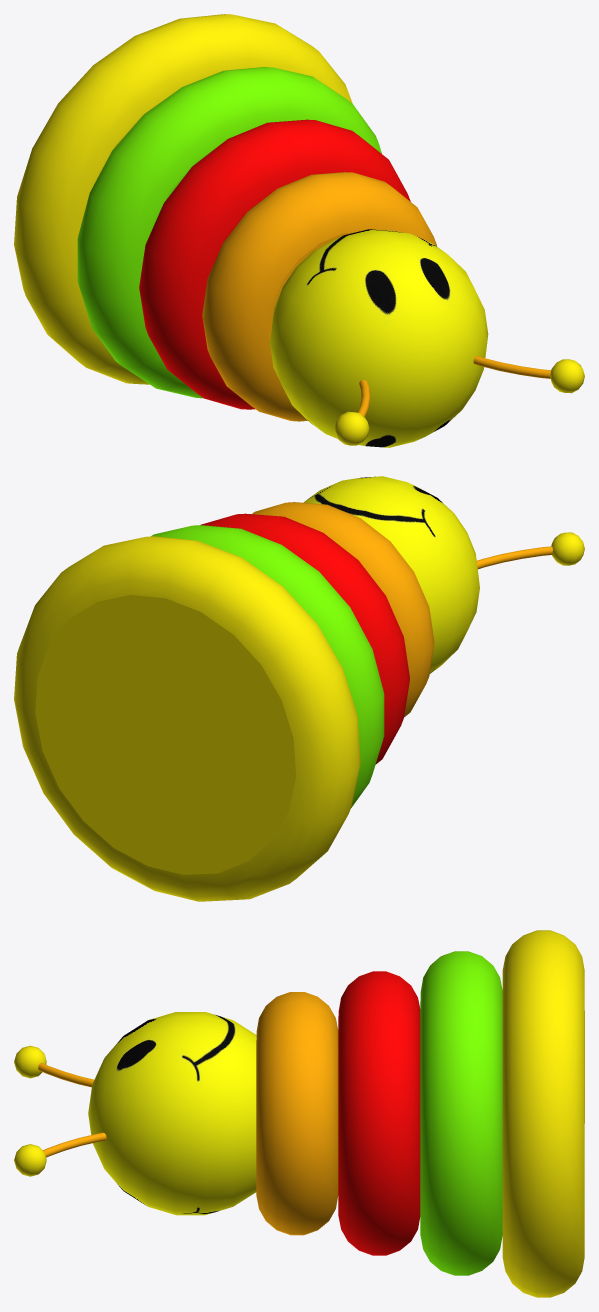
Rendered from Catterpillar game.fbx.
3 views of the same model, one above another, from view 1: azimuth 30°, elevation 25°; view 2: azimuth 150°, elevation 25°; view 3: azimuth 270°, elevation 25° (orthographic). The views are drawn at different scales.
Parts seen in each view (by area): view 1: Object_6, Object_2, Object_3, Object_4, Object_5, Object_7, Object_8; view 2: Object_2, Object_6, Object_3, Object_4, Object_5, Object_7, Object_8; view 3: Object_2, Object_6, Object_3, Object_4, Object_5, Object_7, Object_8.
Boxes of the visible parts, x1,y1,x2,y2 form: Object_6: (270, 229, 488, 447); Object_2: (14, 14, 352, 384); Object_3: (77, 67, 381, 398); Object_4: (139, 119, 410, 409); Object_5: (202, 172, 436, 421); Object_7: (334, 359, 584, 445); Object_8: (357, 355, 551, 416); Object_2: (14, 536, 360, 901); Object_6: (304, 476, 479, 673); Object_3: (151, 525, 384, 807); Object_4: (201, 513, 409, 764); Object_5: (251, 502, 434, 717); Object_7: (551, 532, 584, 565); Object_8: (476, 546, 552, 569); Object_2: (502, 930, 584, 1297); Object_6: (88, 1012, 256, 1215); Object_3: (420, 951, 502, 1275); Object_4: (338, 971, 420, 1255); Object_5: (256, 992, 338, 1235); Object_7: (14, 1045, 46, 1176); Object_8: (38, 1062, 106, 1157).
Size of the model in its own units: 1342 by 1340 by 2086.
